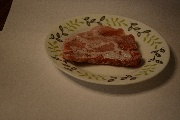beef: (61, 24, 145, 67)
